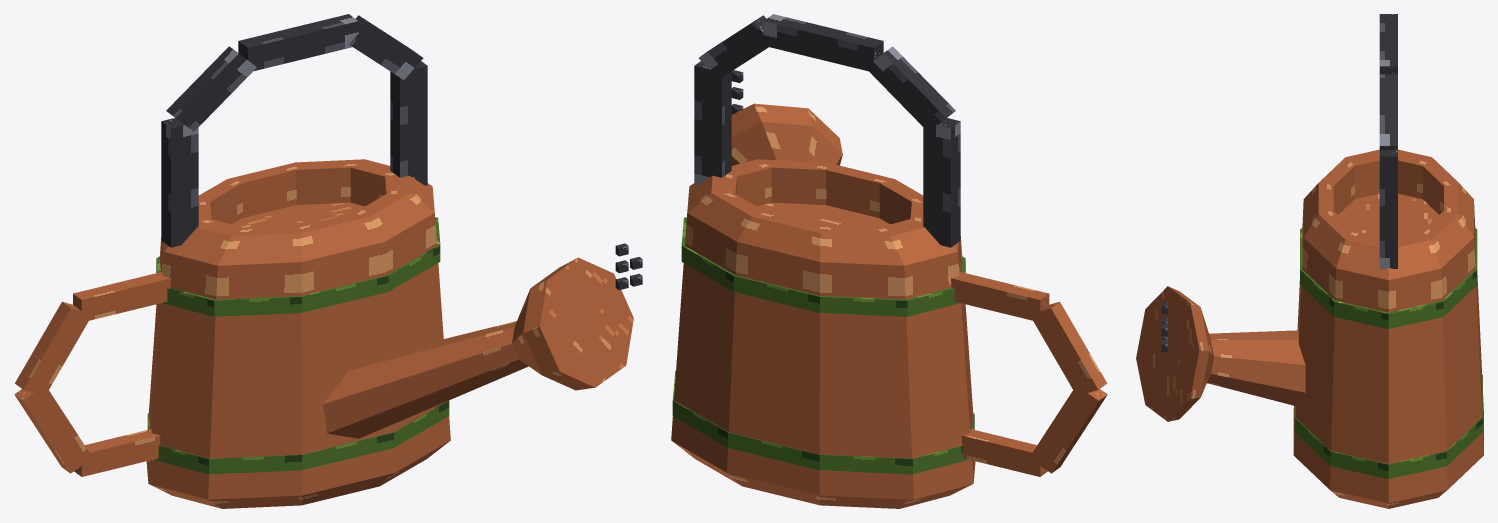
The model's file is prop_watering_can.glb.
The picture shows the model from 3 angles, left to right: view 1: azimuth 30°, elevation 25°; view 2: azimuth 150°, elevation 25°; view 3: azimuth 270°, elevation 25°; orthographic projection. The views are drawn at different scales.
Parts seen in each view (by area): view 1: prop_watering_can; view 2: prop_watering_can; view 3: prop_watering_can.
Boxes of the visible parts, box(x1,y1,x2,y2) form: prop_watering_can: box(14, 14, 642, 508); prop_watering_can: box(671, 14, 1107, 508); prop_watering_can: box(1136, 14, 1483, 508).
Size of the model in its own units: 8 by 6.5 by 5.
1 material, 1 textured.
